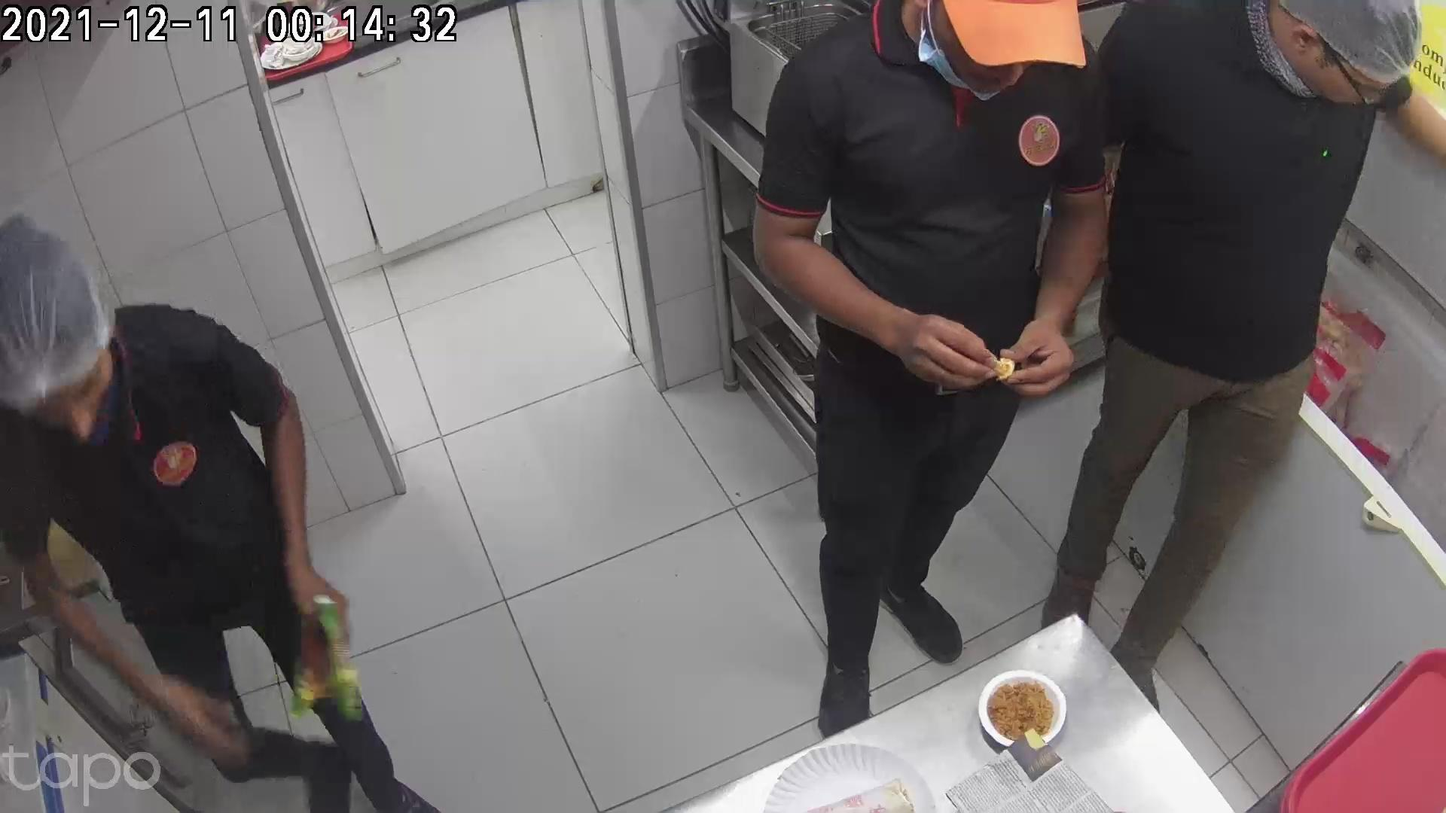gloves: (779, 684, 898, 808)
